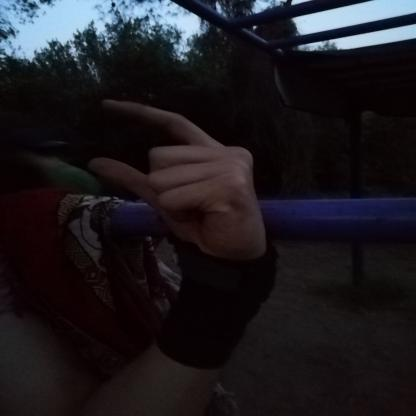DELL: (70, 88, 281, 272)
